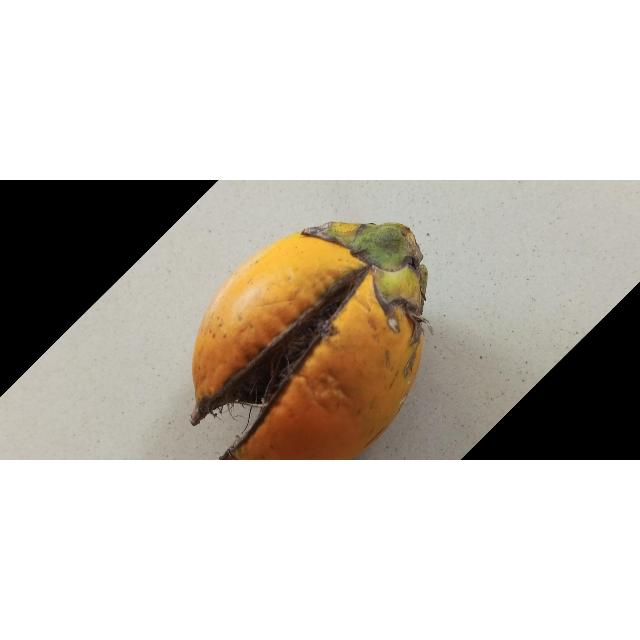damaged: (190, 222, 429, 461)
